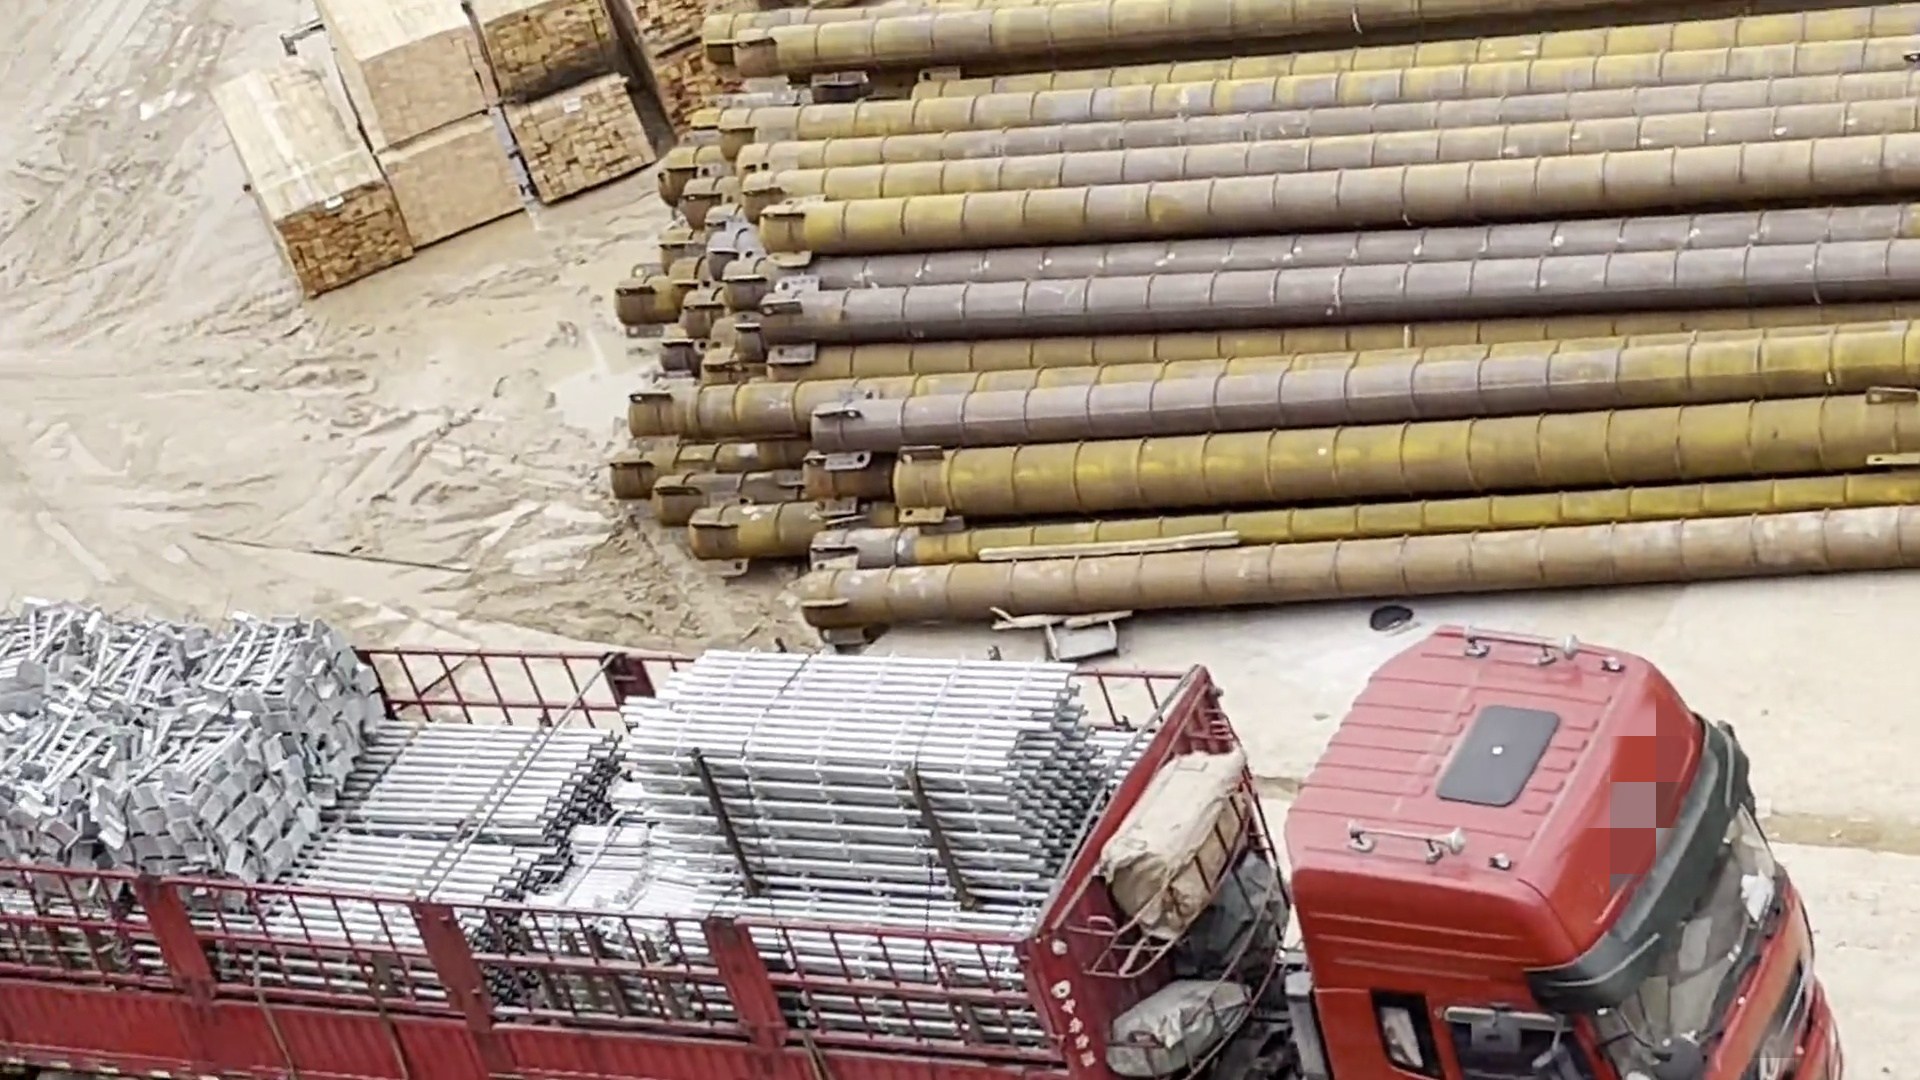scaffold: (299, 703, 737, 996), (622, 647, 1091, 913), (3, 582, 353, 877)
wood: (208, 3, 713, 316)
